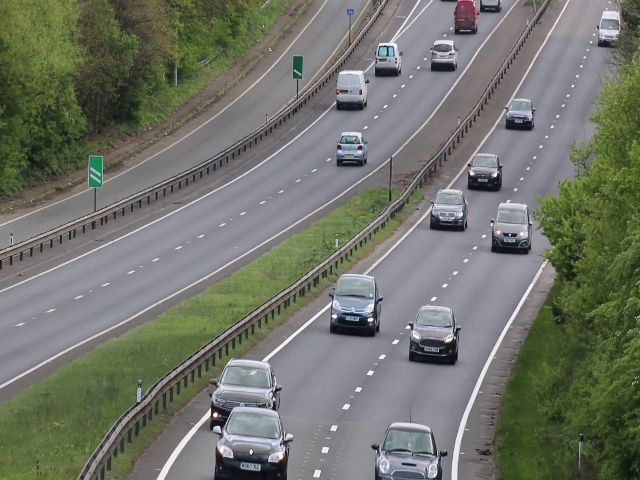car: (214, 407, 290, 480), (375, 418, 438, 480), (210, 355, 278, 409), (407, 301, 459, 364), (329, 272, 379, 334), (490, 199, 532, 255), (431, 187, 469, 232), (332, 68, 369, 110), (336, 128, 368, 169), (467, 152, 499, 192), (373, 41, 404, 75), (502, 98, 533, 131), (427, 42, 459, 72), (597, 8, 620, 47), (452, 1, 479, 30)
